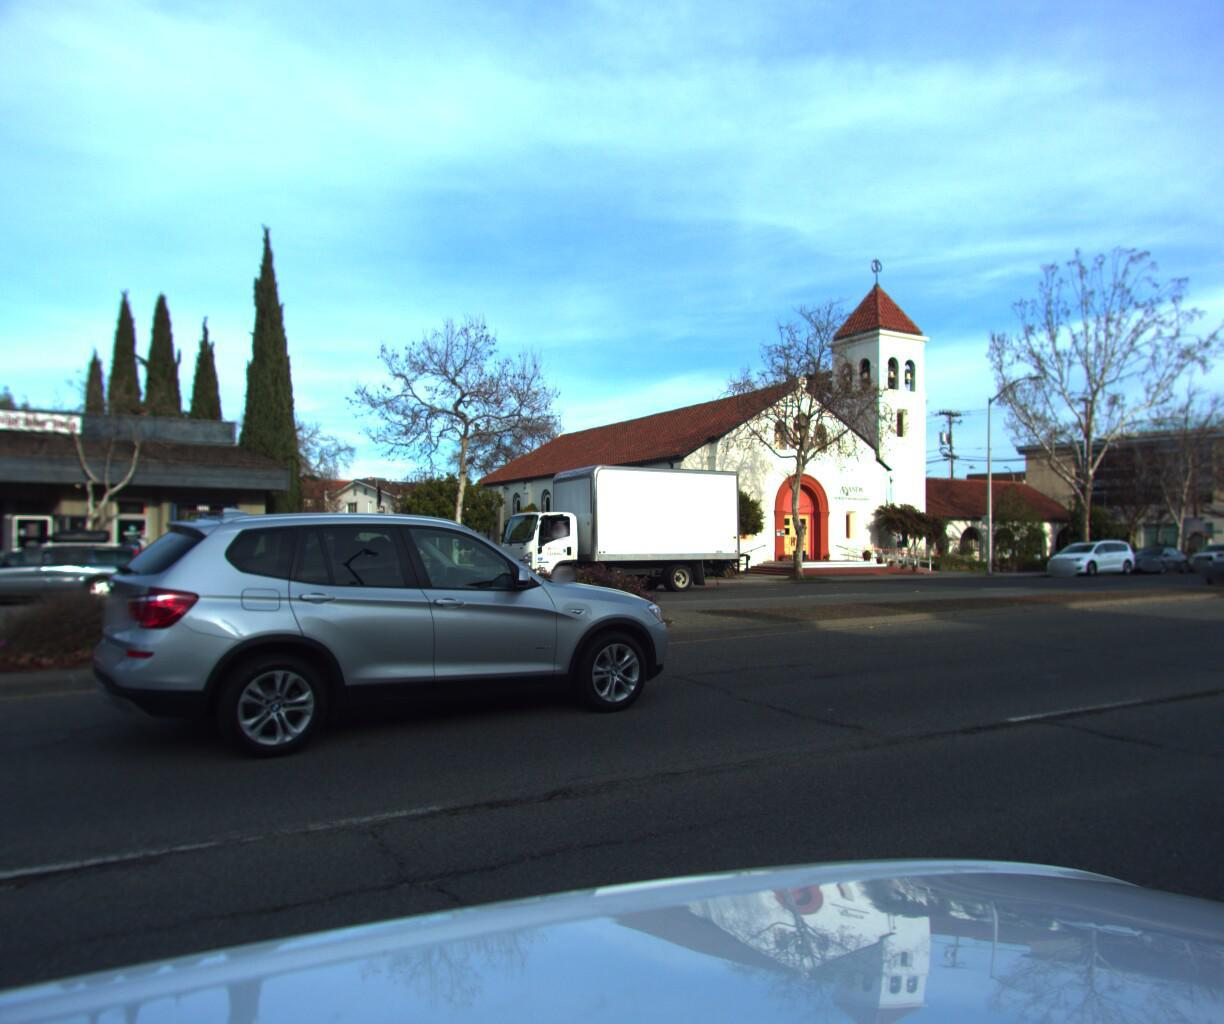car: (97, 498, 683, 788), (1036, 535, 1139, 574), (1109, 541, 1191, 573), (1190, 540, 1224, 589), (1177, 535, 1224, 569)
truck: (488, 461, 752, 601)
